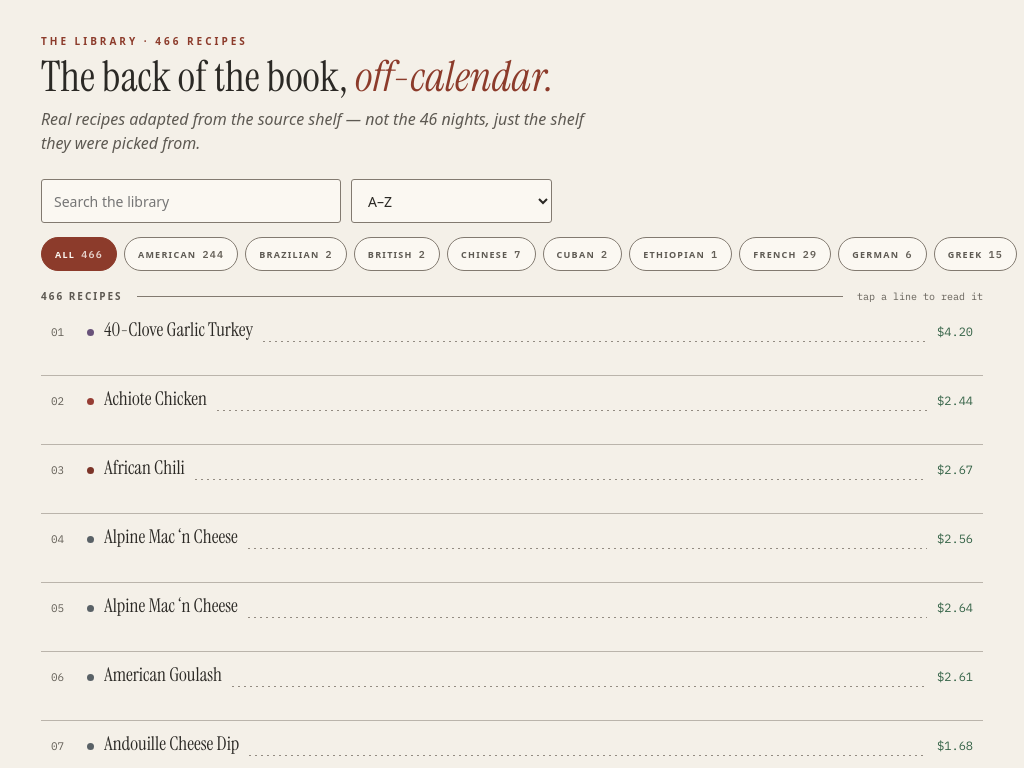
Test: closing the recipe › the close button closes it too
Click the text "40-Clove Garlic Turkey" at (179, 330), box top-left (104, 319), bottom-right (253, 342)
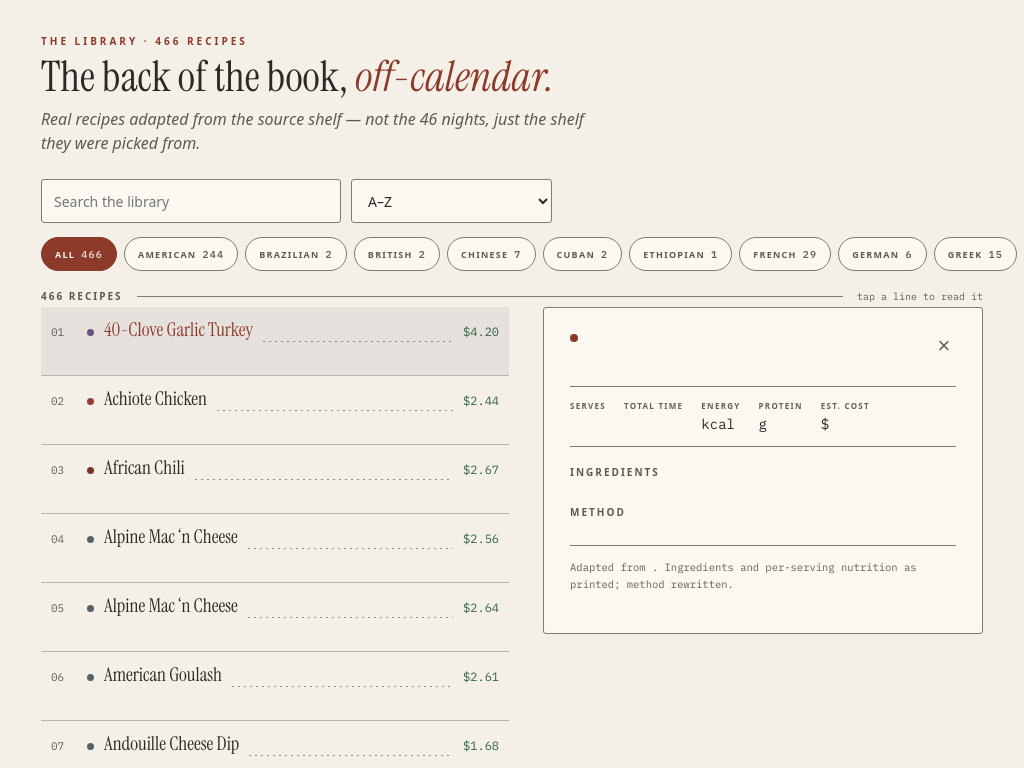
Expected: the button named "Close recipe" is shown
Click the button named "Close recipe" at (944, 346), box top-left (922, 324), bottom-right (966, 368)
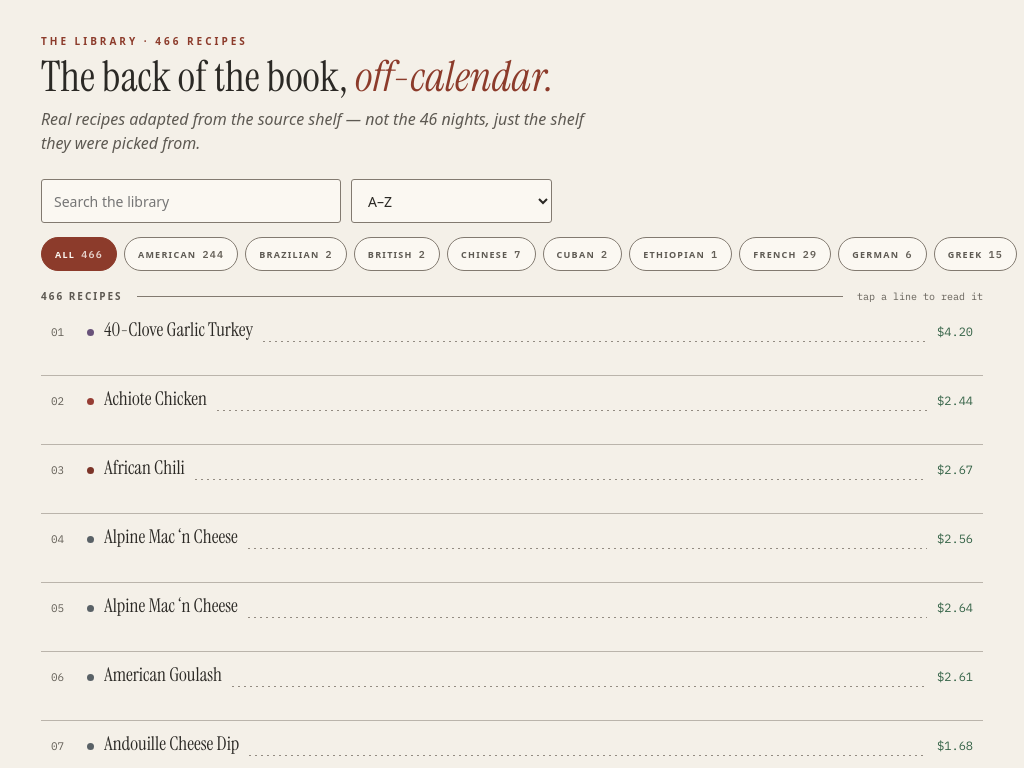
Expected: the text "Ingredients" is gone
